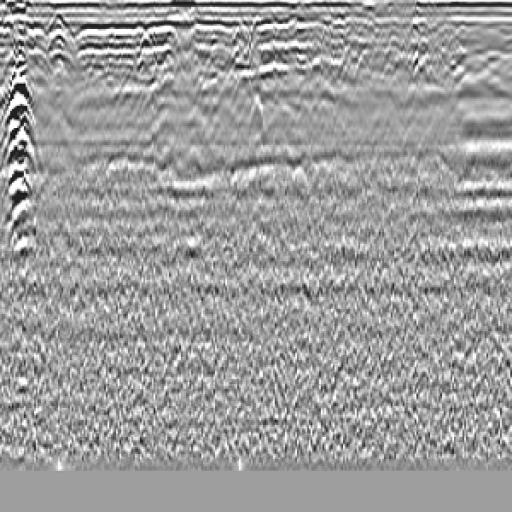non-metallic: (1, 45, 46, 280)
